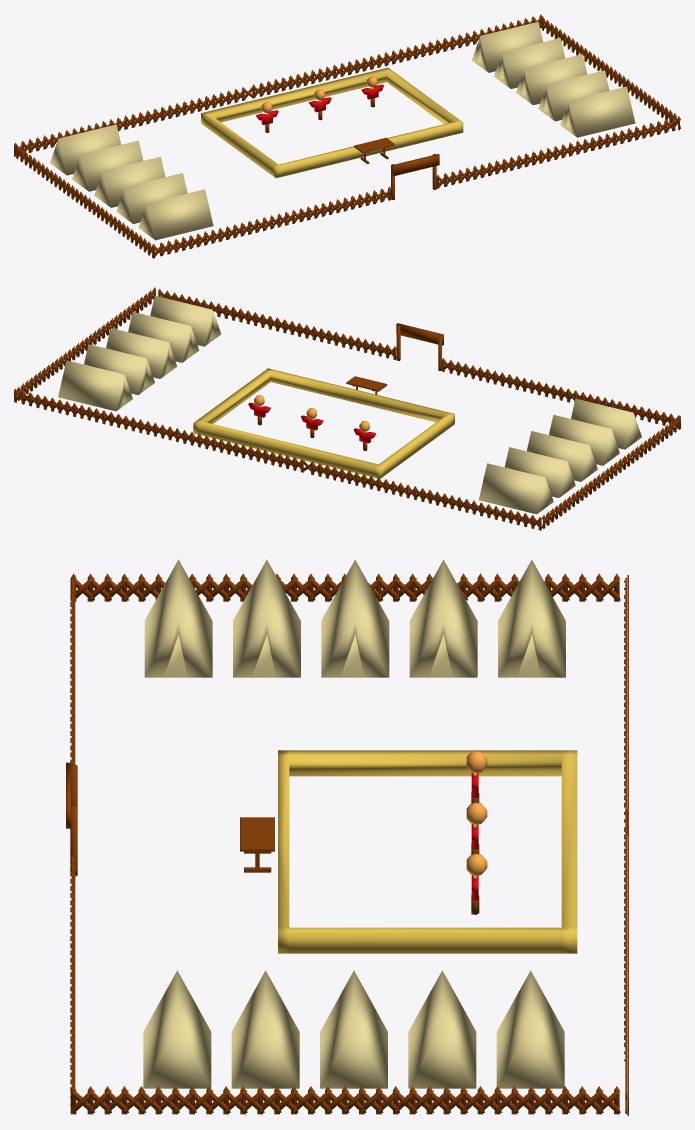
Rendered from Treino.fbx.
3 views of the same model, one above another, from view 1: azimuth 30°, elevation 25°; view 2: azimuth 150°, elevation 25°; view 3: azimuth 270°, elevation 25° (orthographic). The views are drawn at different scales.
Visible parts, largest first — view 1: Cube.451, Cube.001, Cube.002, Cube.003, Cube, Blacksmith_Table; view 2: Cube.451, Cube.002, Cube.001, Cube.003, Cube; view 3: Cube.002, Cube.001, Cube.451, Cube.003, Blacksmith_Table.
Boxes of the visible parts, <box> form: Cube.451: <box>14,14,680,258</box>; Cube.001: <box>50,124,213,240</box>; Cube.002: <box>472,21,635,137</box>; Cube.003: <box>201,67,463,178</box>; Cube: <box>392,154,439,176</box>; Blacksmith_Table: <box>354,137,394,164</box>; Cube.451: <box>14,287,680,530</box>; Cube.002: <box>58,295,221,411</box>; Cube.001: <box>479,398,641,514</box>; Cube.003: <box>193,368,454,478</box>; Cube: <box>396,323,443,345</box>; Cube.002: <box>143,970,564,1088</box>; Cube.001: <box>144,559,565,677</box>; Cube.451: <box>70,573,628,1115</box>; Cube.003: <box>278,750,577,953</box>; Blacksmith_Table: <box>240,817,274,872</box>.
Size of the model in its own units: 10691 by 686 by 4938.
